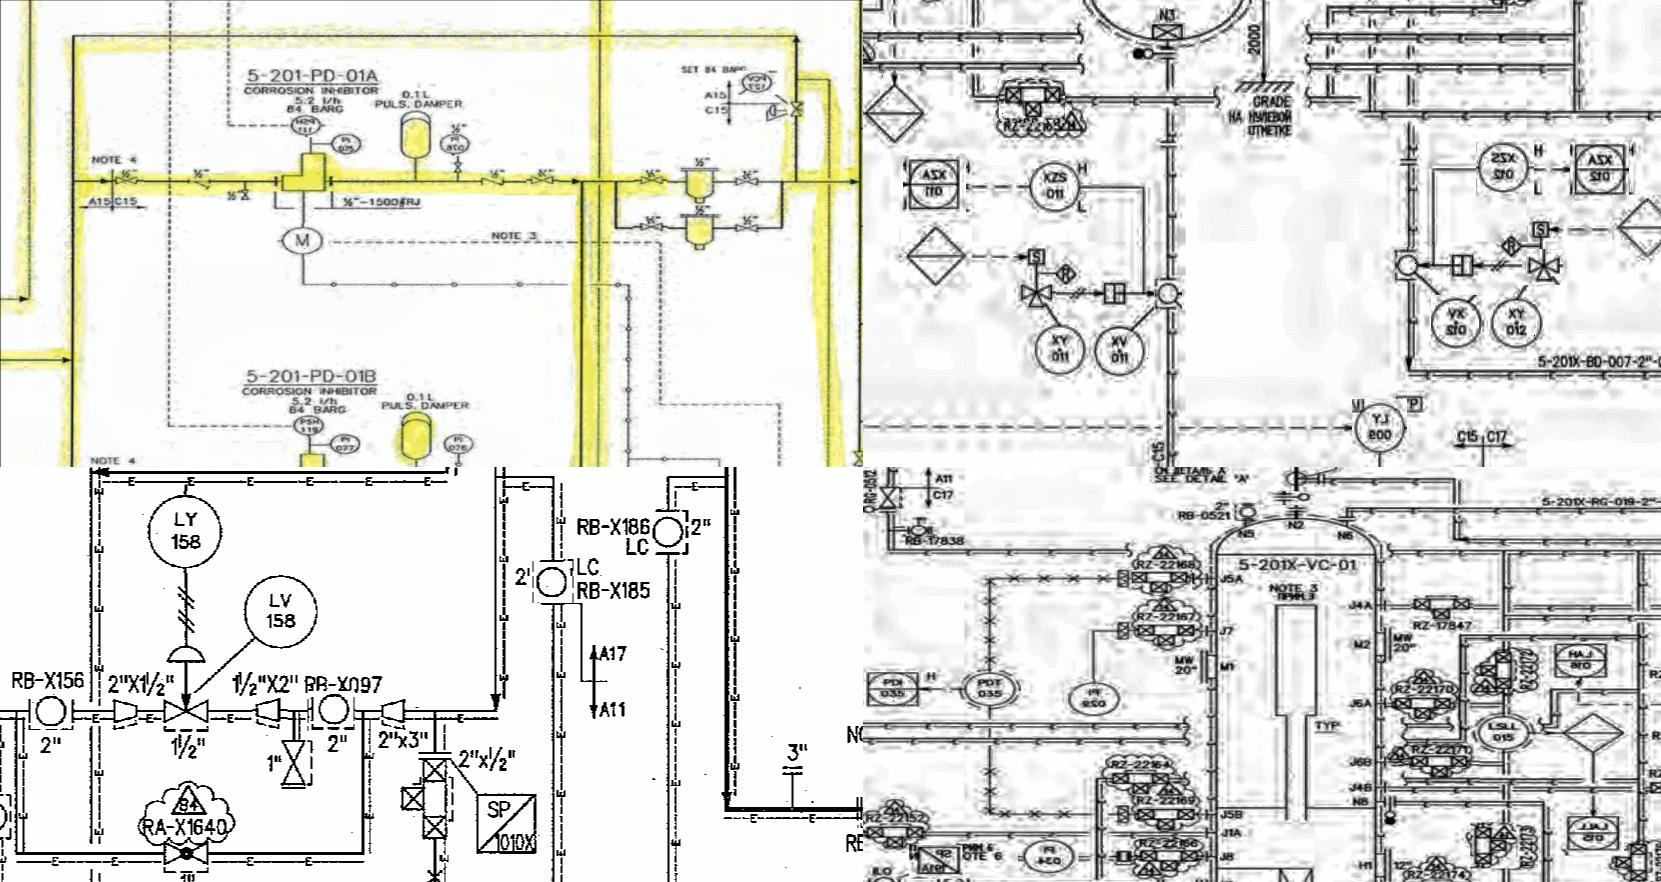2 WAY VALVE: (394, 755, 454, 846), (1000, 80, 1066, 124)
3 WAY GENERAL VALVE: (1521, 249, 1563, 284), (1019, 273, 1056, 313)
CONCENTRIC REDUCER: (253, 694, 288, 730), (380, 697, 411, 728), (109, 697, 141, 727)
DCS ACCESSIBLE: (903, 154, 966, 217), (1570, 138, 1629, 201)
DIAPHRAGM ACTUATED VALVE: (156, 644, 208, 732)
DRUM AND PRESSURE VESSEL: (393, 109, 439, 163), (398, 406, 435, 467)
END FLANGED: (769, 760, 813, 772)
FIELD INSTRUMENT: (140, 491, 228, 573), (242, 569, 320, 655), (1090, 322, 1149, 379), (1476, 143, 1534, 199), (1033, 321, 1088, 379), (1029, 156, 1083, 215), (1353, 400, 1409, 455), (1433, 295, 1484, 350), (1490, 299, 1545, 349), (309, 690, 356, 733), (29, 692, 78, 733), (278, 223, 330, 259), (647, 507, 685, 552), (532, 561, 572, 603), (1392, 247, 1422, 282), (738, 70, 778, 94), (290, 112, 327, 137), (437, 131, 475, 156), (1153, 278, 1182, 310), (439, 434, 479, 456), (0, 796, 20, 838), (292, 414, 327, 437), (327, 133, 365, 154), (327, 434, 363, 456)
GATE VALVE: (156, 830, 216, 875), (274, 740, 317, 785), (633, 220, 668, 235), (633, 172, 667, 188), (113, 171, 144, 188), (526, 172, 559, 187), (788, 99, 805, 124), (731, 222, 763, 235), (732, 176, 761, 187), (237, 186, 257, 202), (763, 102, 780, 120)
HARDWIRED INTERLOCK FIELD: (1043, 261, 1092, 287), (1496, 235, 1538, 257)
IP CONVERTER: (1394, 391, 1427, 415)
NON-ACCESSABLE HARDWIRED INTERLOCK: (900, 226, 972, 288), (868, 75, 928, 146), (1613, 196, 1661, 260)
REVISION TRIANGLE: (172, 779, 208, 824)
SPECIAL PIPING ITEM: (472, 791, 544, 864)
SPECTACLE BLIND OPEN: (1125, 44, 1186, 68)
SPEED FLOW METER: (1021, 243, 1052, 273), (1529, 211, 1552, 252)
